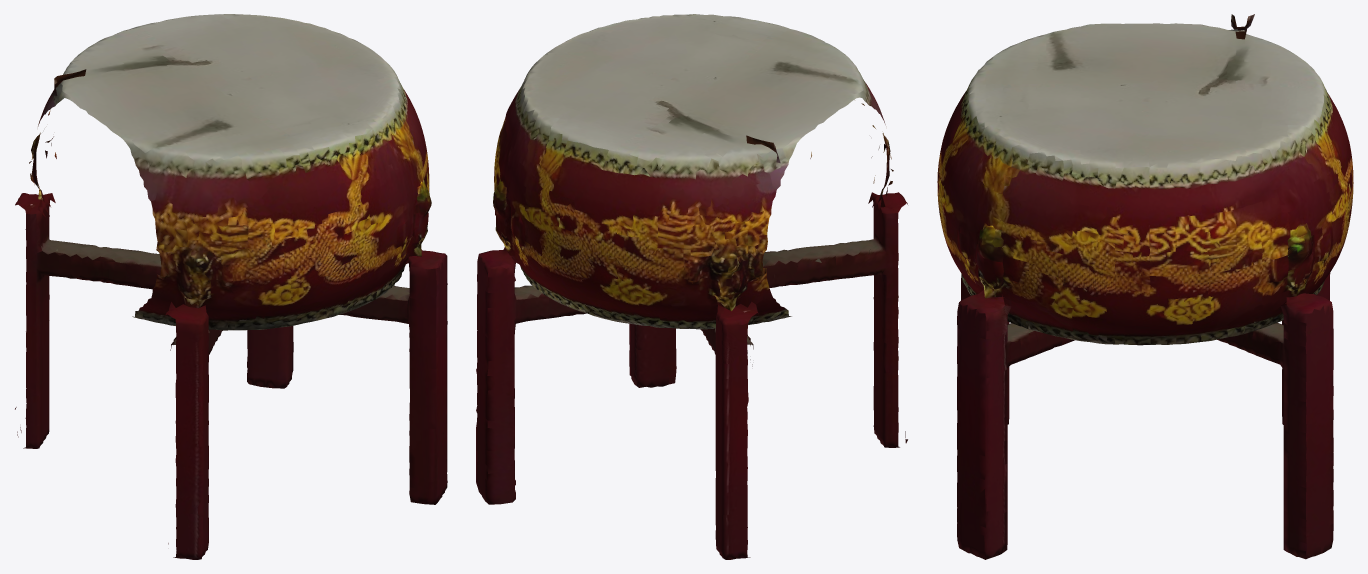
File: taiko_tambor.glb
3 renders of one model, left to right at view 1: azimuth 30°, elevation 25°; view 2: azimuth 150°, elevation 25°; view 3: azimuth 270°, elevation 25°, orthographic. The views are drawn at different scales.
Parts seen in each view (by area): view 1: tambor; view 2: tambor; view 3: tambor.
Boxes of the visible parts, box(x1,y1,x2,y2) form: tambor: box(15, 14, 447, 559); tambor: box(476, 14, 907, 559); tambor: box(937, 14, 1353, 559).
Size of the model in its own units: 0.4412 by 0.545 by 0.4991.
1 material, 1 textured.
